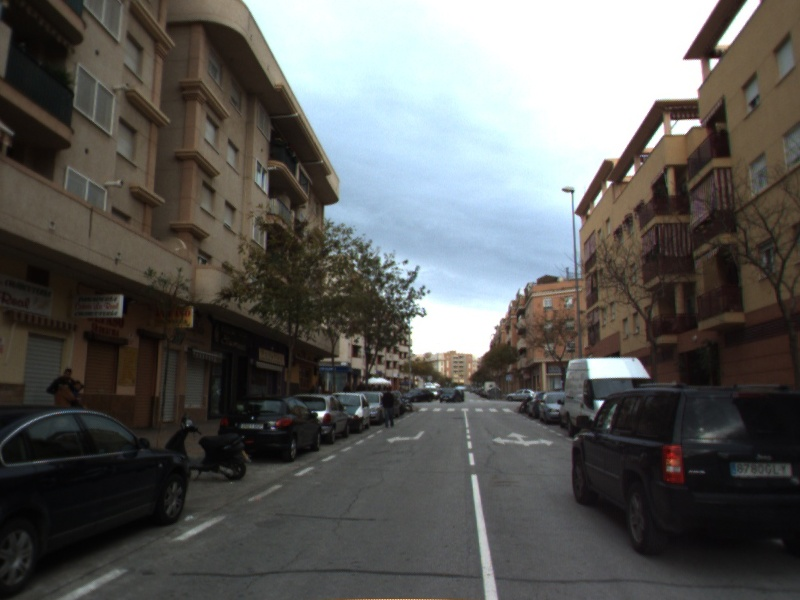STRAIGHT_LEFT_RIGHT: (490, 430, 556, 449)
